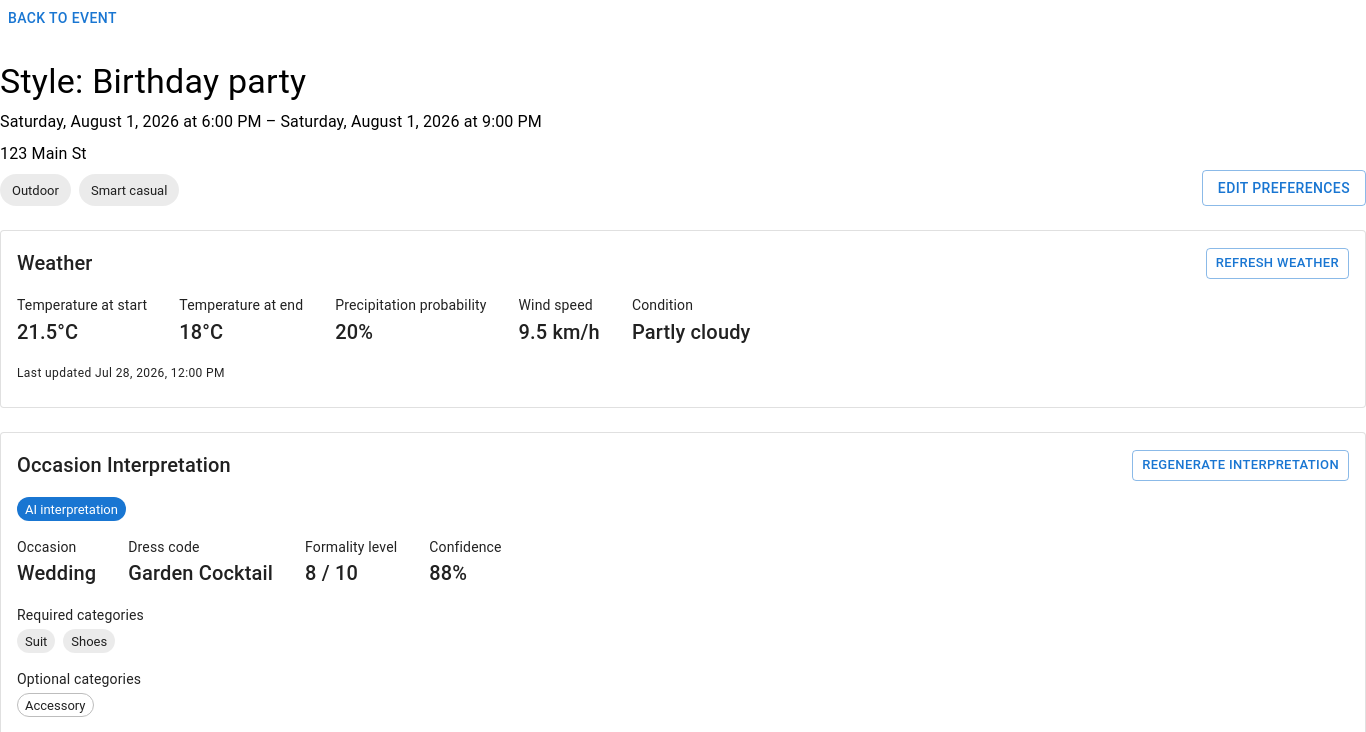
Test: EventStylePage › populates the edit-preferences modal with existing saved preferences
Click the button "Edit preferences".
click(1284, 188)  # box [1202,170,1365,206]
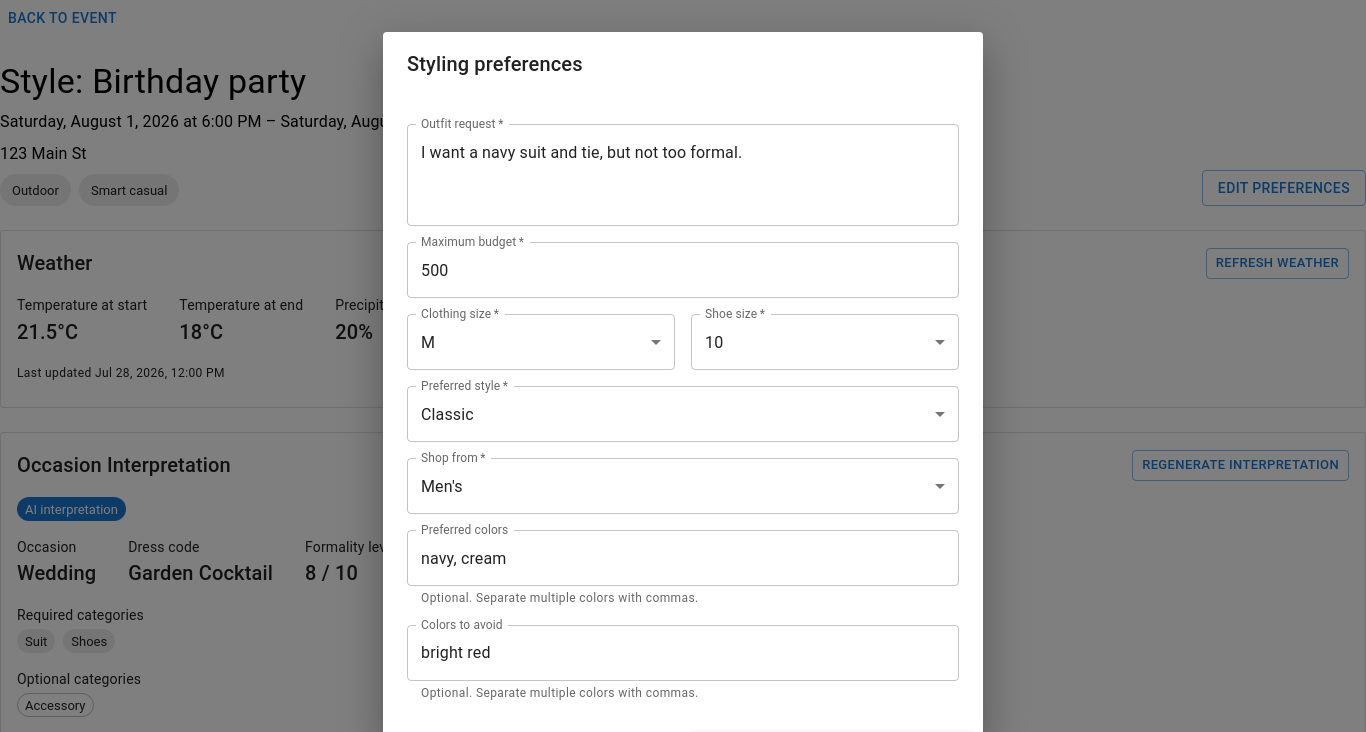
Expected: the text box labelled "Outfit request *" holds "I want a navy suit and tie, but not too formal.", [421,140,945,210]
Expected: the number field labelled "Maximum budget *" holds "500", [407,242,959,298]
